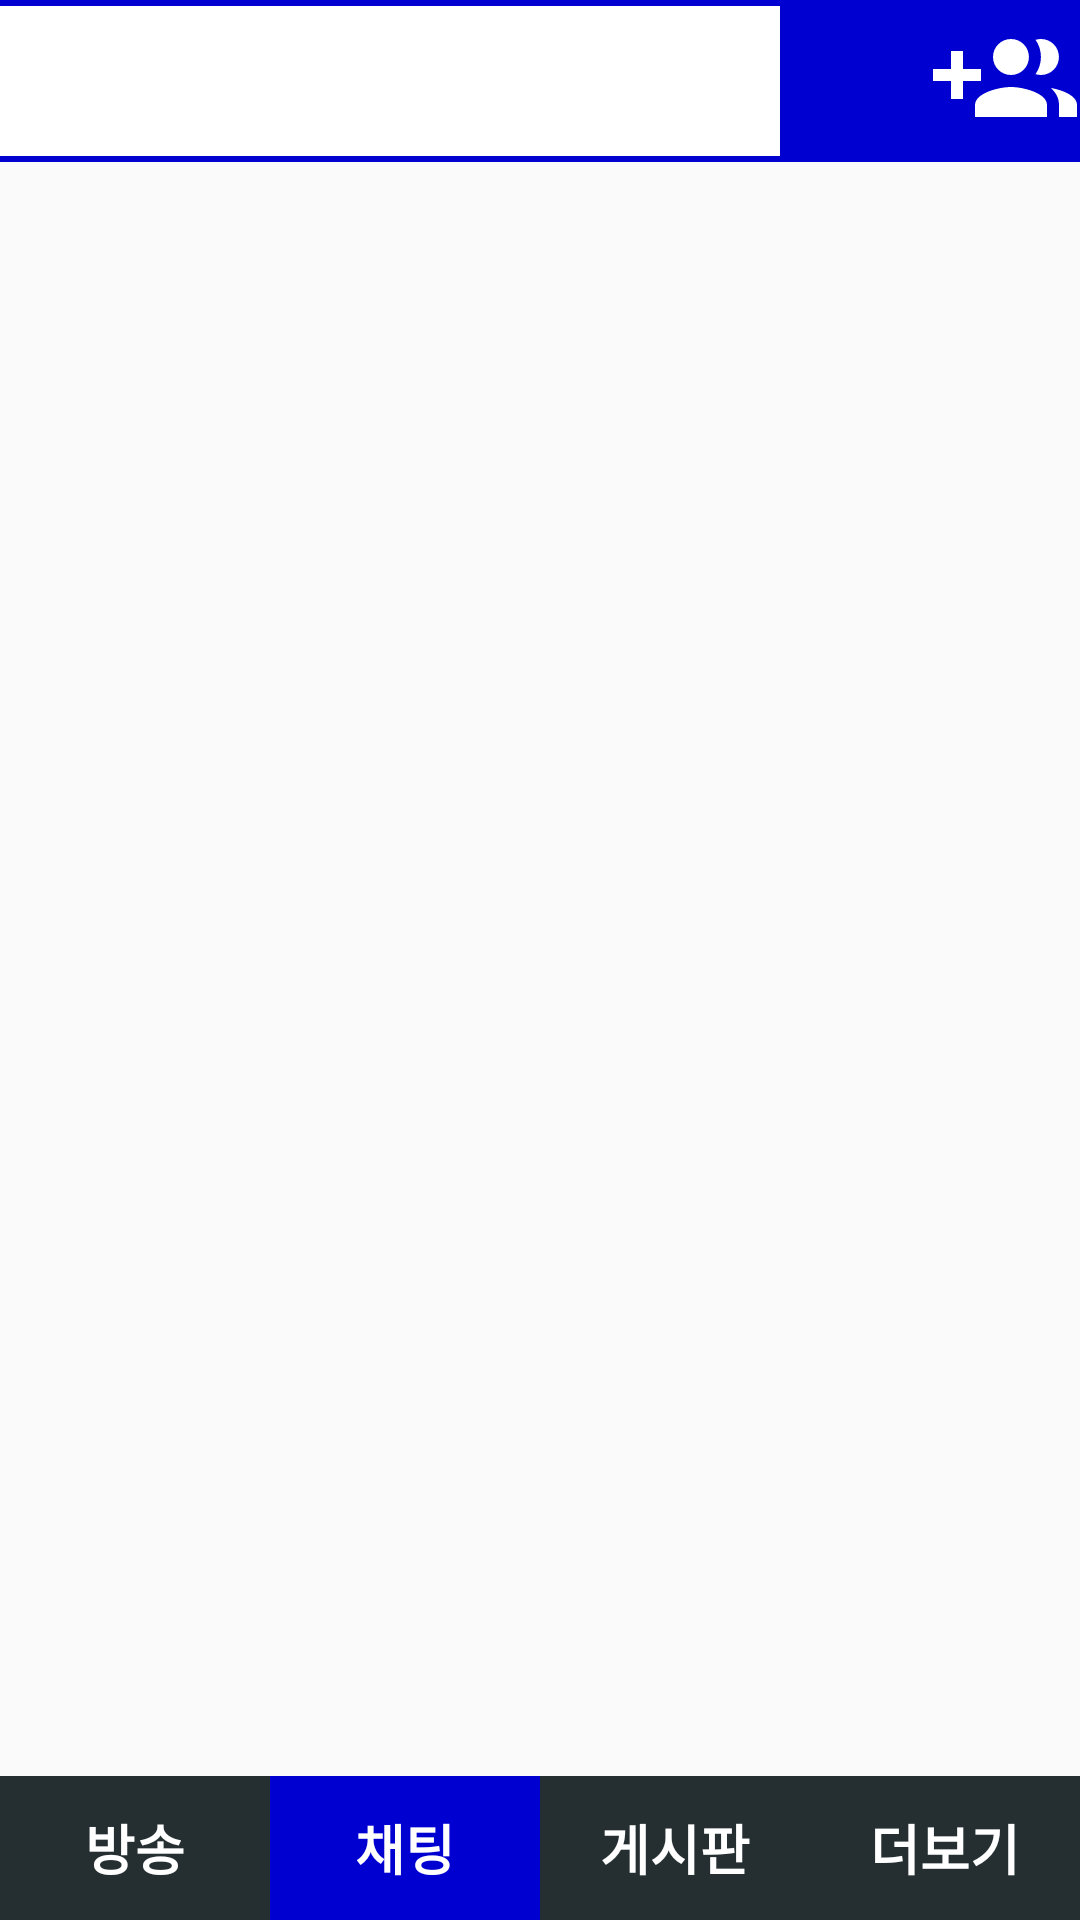

Locate icon controls on the screen. Image size 1080px x 1920px, boxes as (x1, y1, x2, y2).
group add: (933, 39, 1077, 117)
